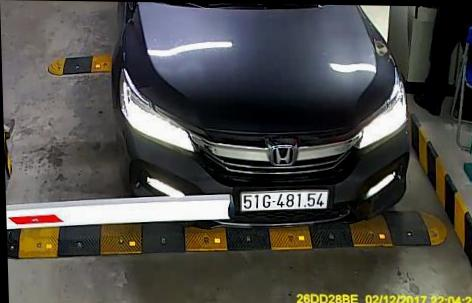License_Plate: (235, 183, 328, 217)
